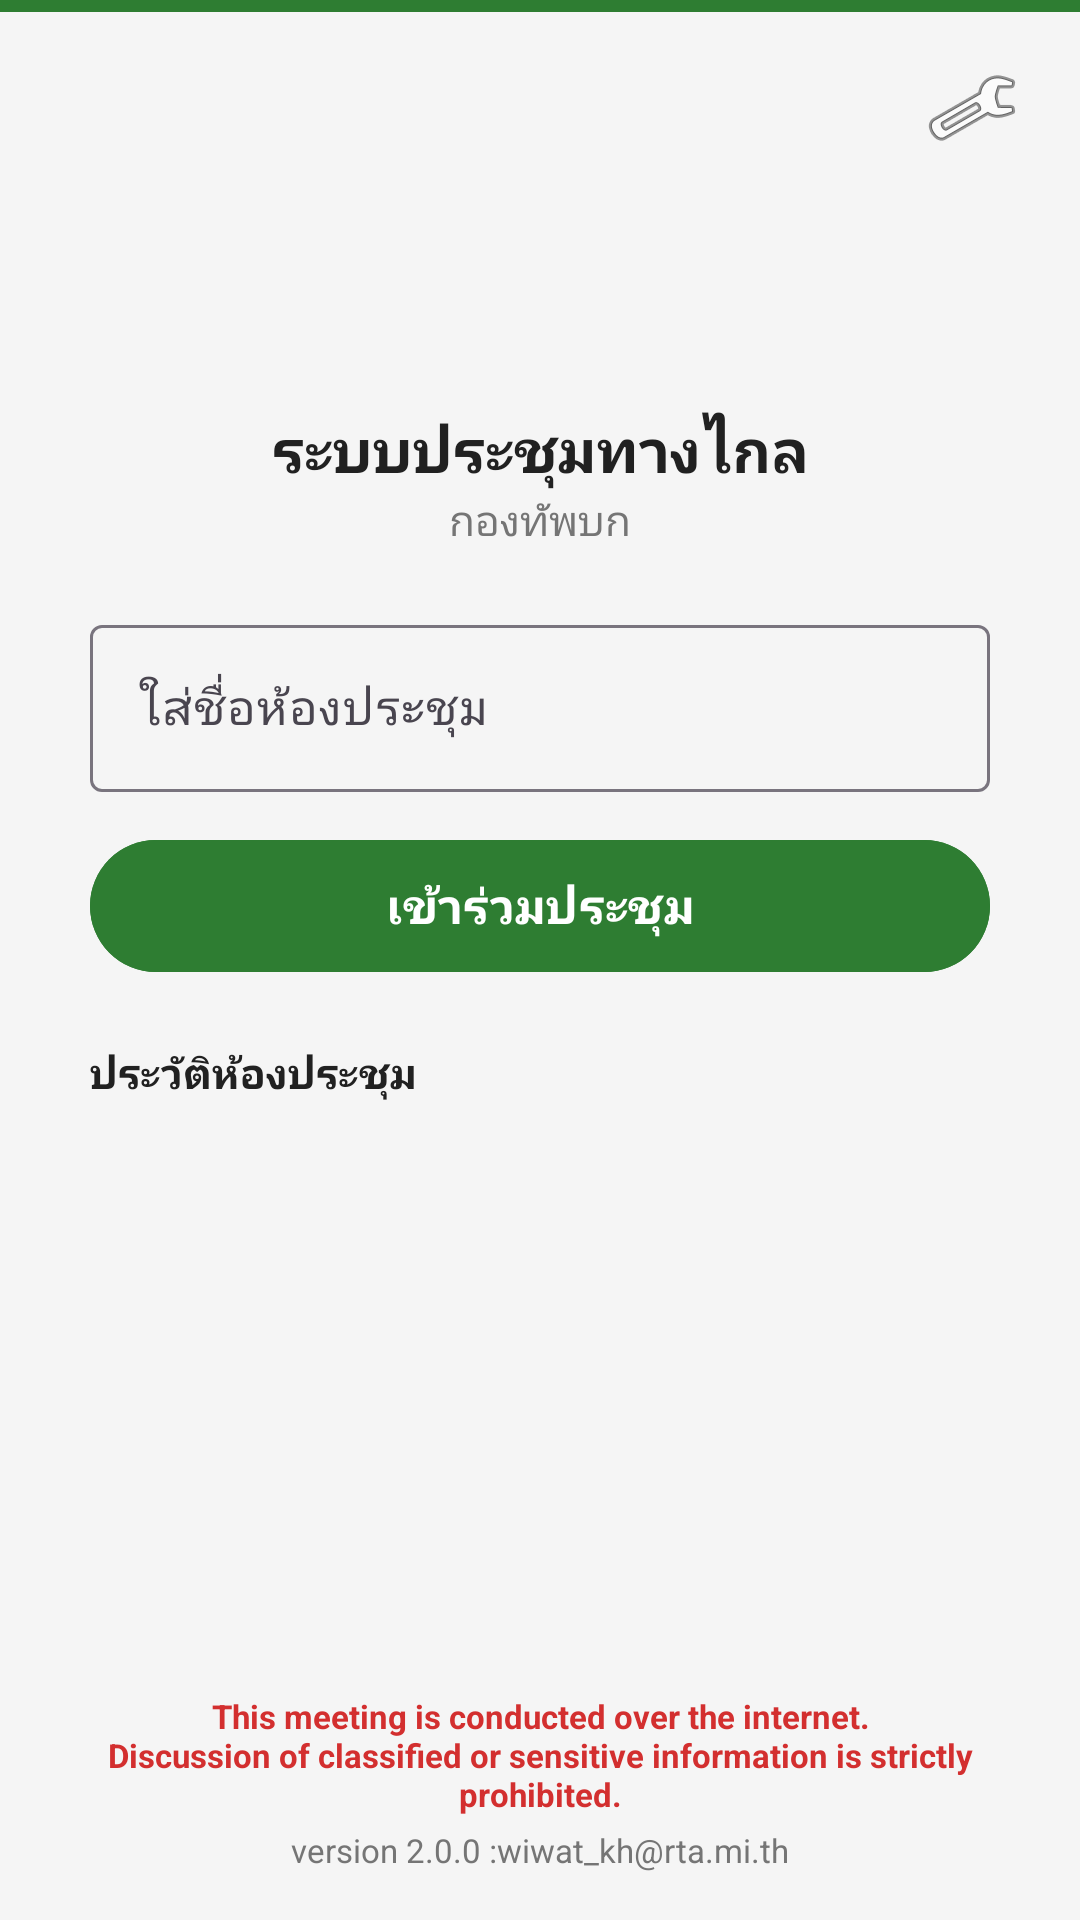

Where icons sit on this 1080 × 1920 app screen, as (x1, y1, x2, y2):
ตั้งค่า: (929, 75, 1015, 141)
